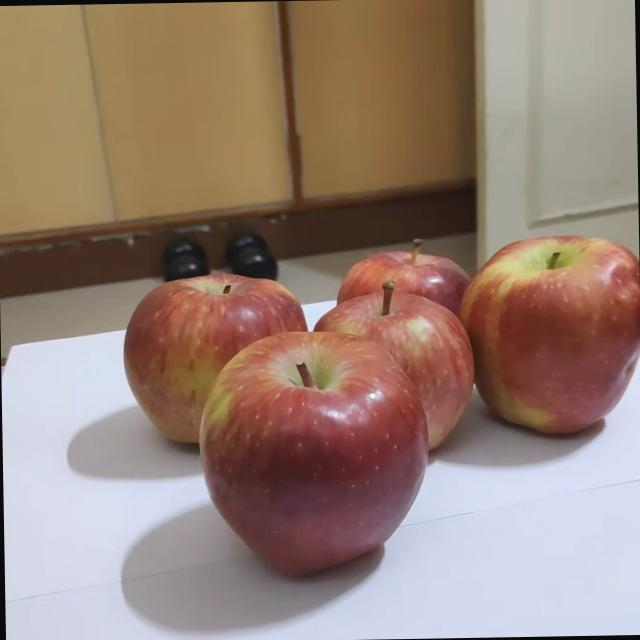apple: (204, 322, 441, 574), (86, 262, 284, 452), (422, 230, 611, 427), (286, 273, 454, 442), (290, 236, 434, 375)
